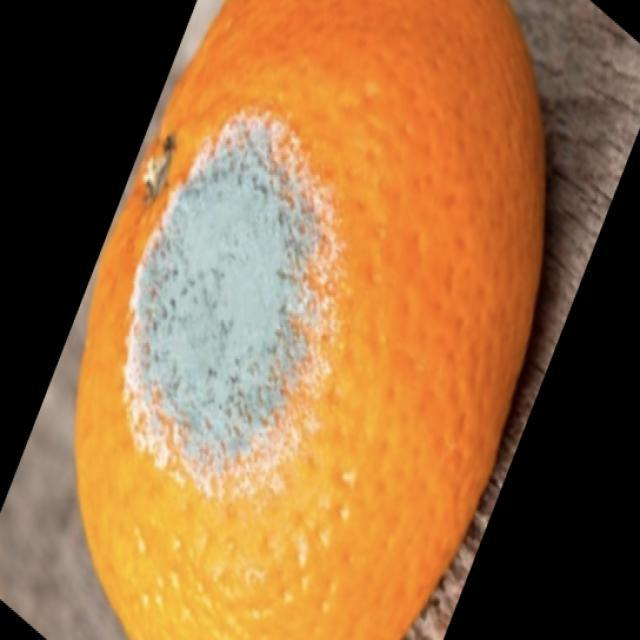sedikit-busuk: (77, 0, 542, 639), (127, 115, 336, 493)
